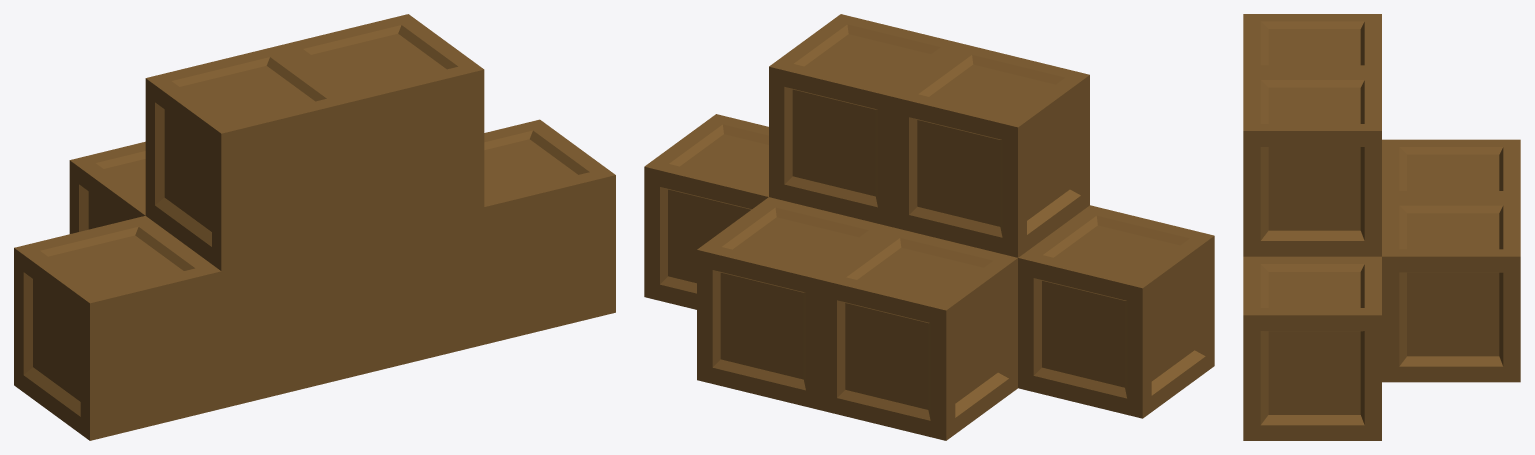
File: Crate5.fbx
3 views of the same model, side by side, from view 1: azimuth 30°, elevation 25°; view 2: azimuth 150°, elevation 25°; view 3: azimuth 270°, elevation 25° (orthographic). The views are drawn at different scales.
Visible parts, largest first — view 1: Plane.001; view 2: Plane.001; view 3: Plane.001.
Boxes of the visible parts, box(x1,y1,x2,y2) form: Plane.001: box(14, 14, 615, 440); Plane.001: box(644, 14, 1214, 440); Plane.001: box(1243, 14, 1520, 440).
Size of the model in its own units: 800 by 400 by 400.
